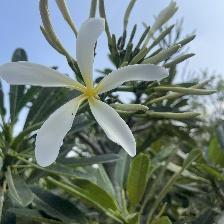champaka: (1, 18, 171, 171)
